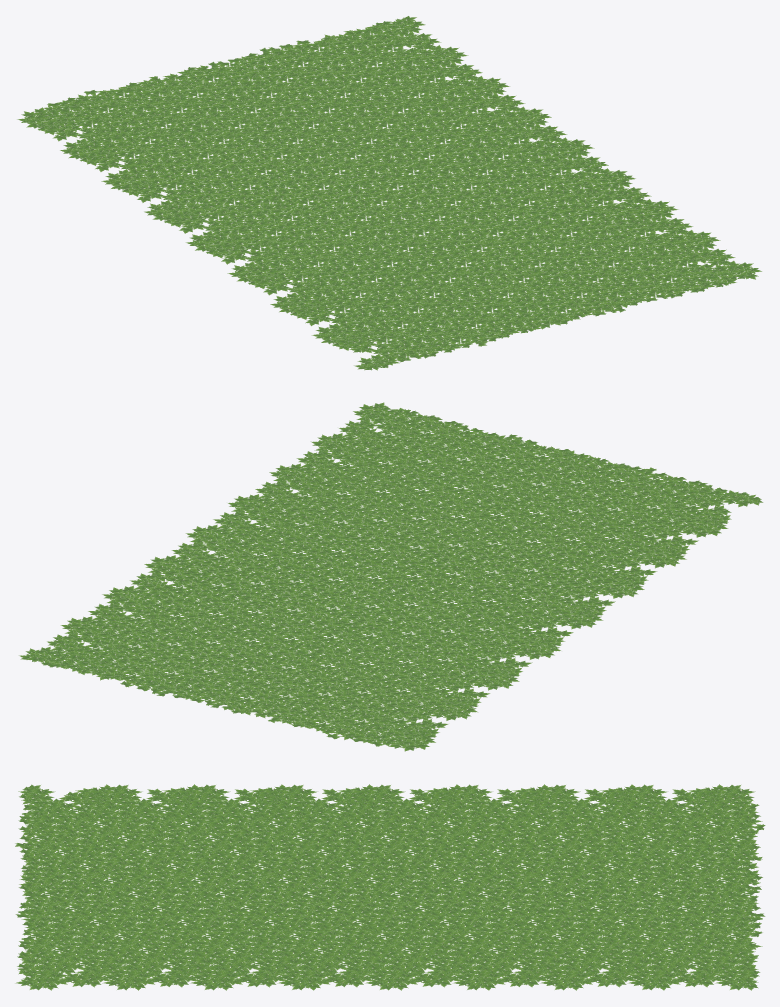
The model's file is Leaves.fbx.
3 views of the same model, one above another, from view 1: azimuth 30°, elevation 25°; view 2: azimuth 150°, elevation 25°; view 3: azimuth 270°, elevation 25° (orthographic). The views are drawn at different scales.
Bounding box in the file's own units: 30.08 × 0 × 45.48.
Materials: 1 (1 with a texture image).
